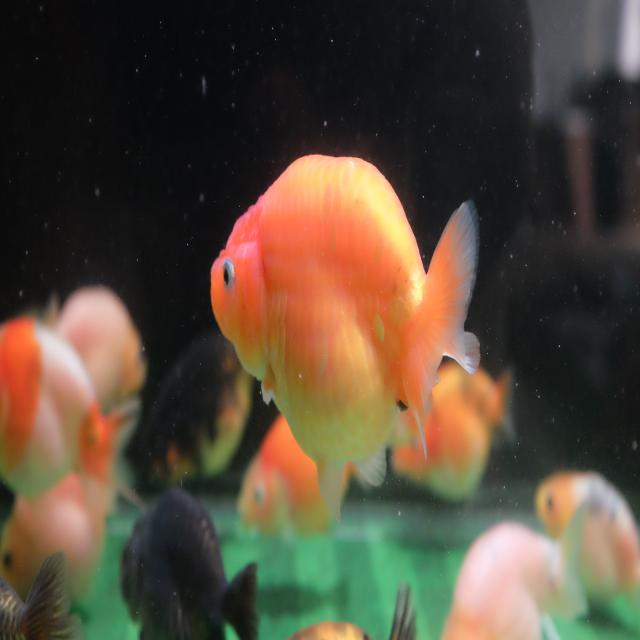Tilapia: (209, 152, 479, 524)
